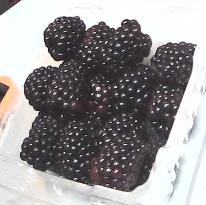berry: (93, 129, 149, 190), (99, 19, 152, 75), (56, 119, 98, 184), (47, 57, 89, 122), (20, 112, 62, 172), (113, 64, 154, 119), (74, 21, 115, 73), (44, 16, 87, 62), (93, 113, 145, 150), (150, 43, 195, 85), (149, 84, 183, 139), (22, 66, 59, 112), (88, 73, 116, 121)
